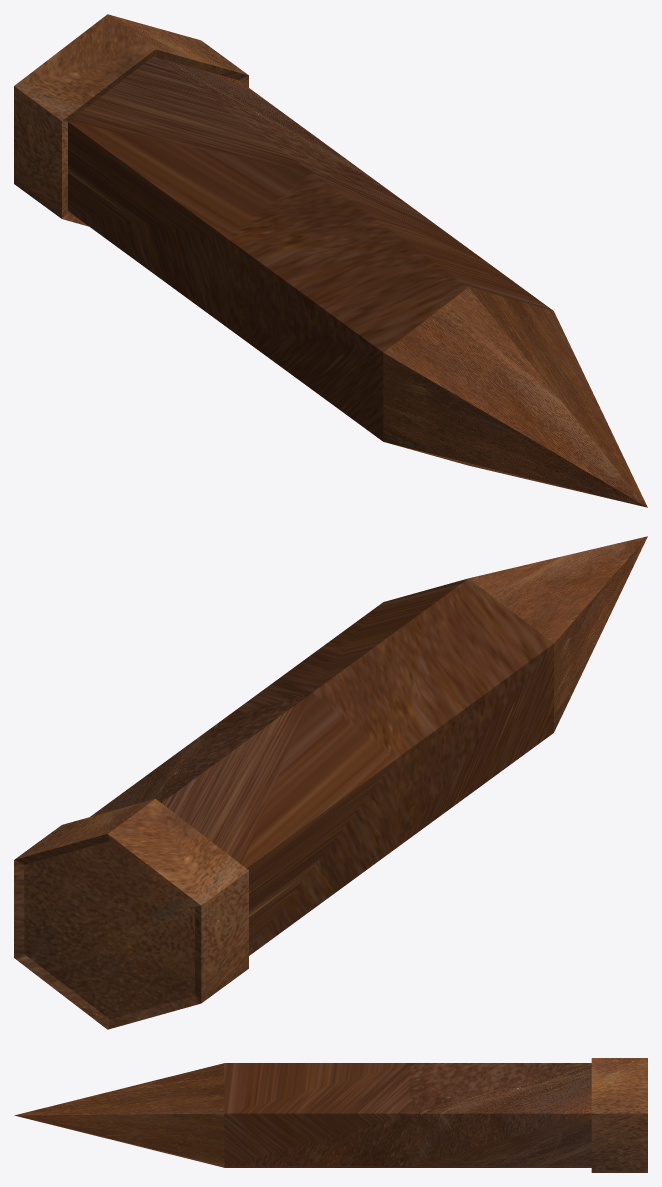
The model's file is bullet.fbx.
3 renders of one model, top to bottom at view 1: azimuth 30°, elevation 25°; view 2: azimuth 150°, elevation 25°; view 3: azimuth 270°, elevation 25°, orthographic. The views are drawn at different scales.
Visible parts, largest first — view 1: BODY; view 2: BODY; view 3: BODY.
Part boxes in pixels (x1,y1,x2,y2): BODY: (14, 14, 647, 507); BODY: (14, 536, 647, 1029); BODY: (14, 1058, 647, 1172).
Bounding box in the file's own units: 0.075 × 0.075 × 0.375.
